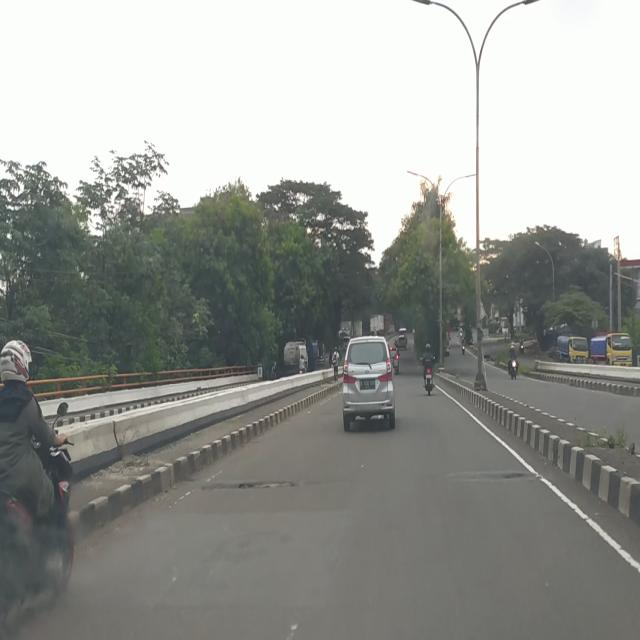Sewer Cover: (190, 474, 298, 493), (447, 468, 532, 481)
